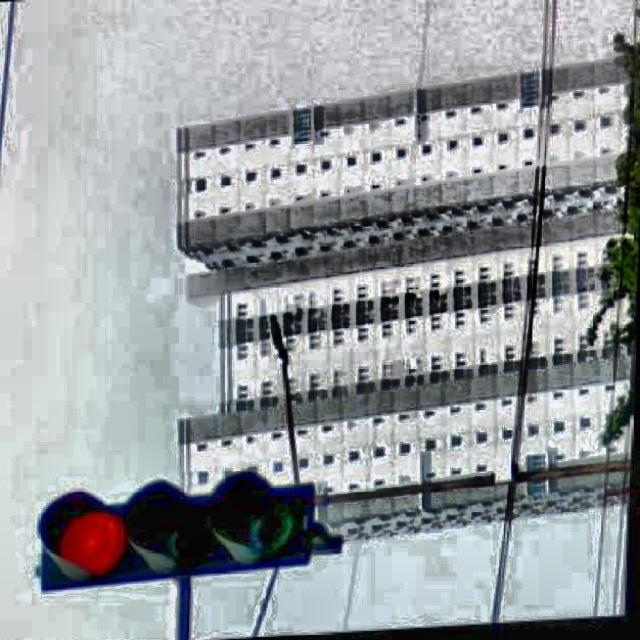red: (44, 483, 310, 580)
